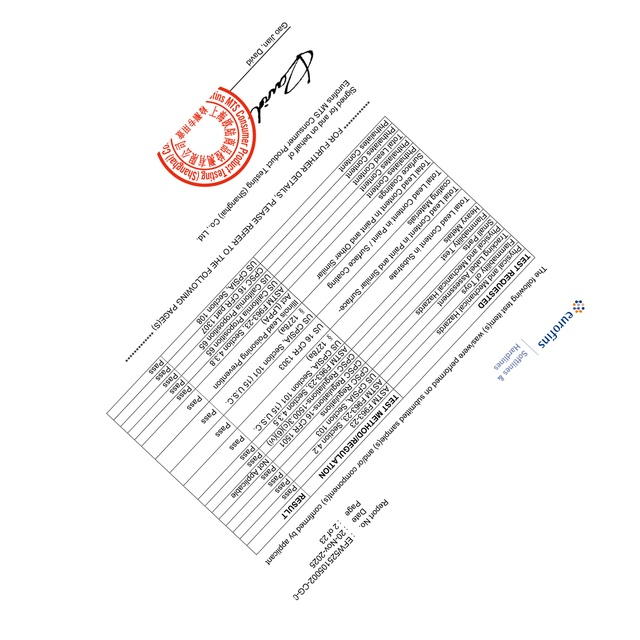eurofins: (536, 295, 588, 351)
